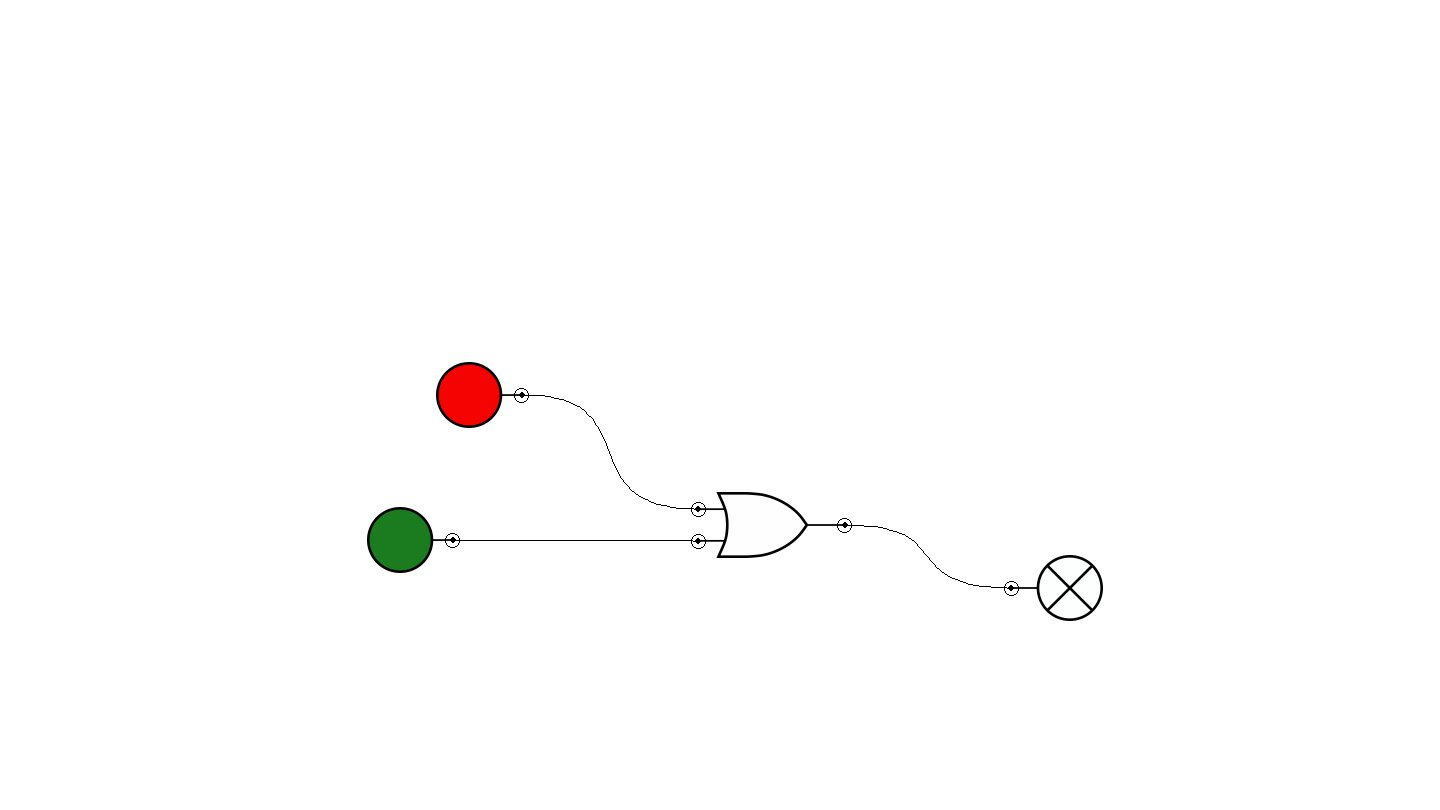bulb: (1004, 555, 1103, 621)
or: (691, 492, 852, 558)
switch_False: (436, 362, 529, 428)
switch_True: (367, 507, 460, 573)
